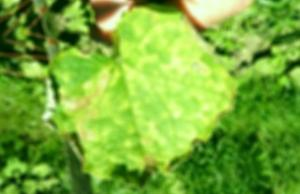Tomato leaf bacterial spot: (10, 0, 269, 194)
